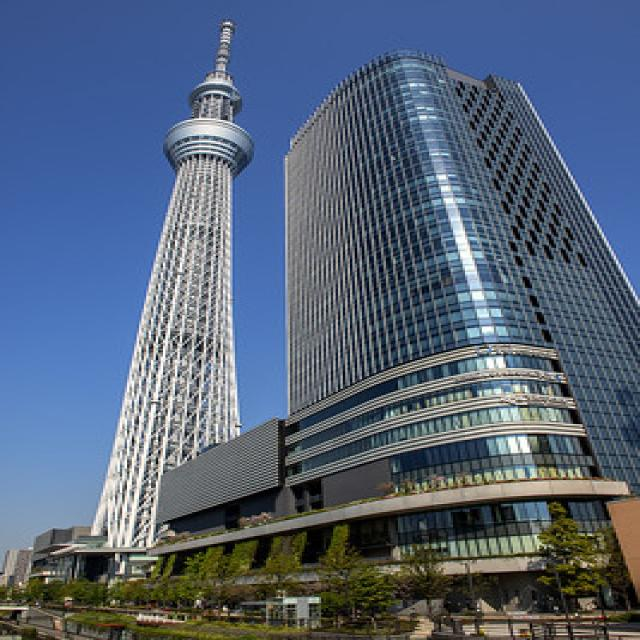building: (273, 45, 640, 640)
